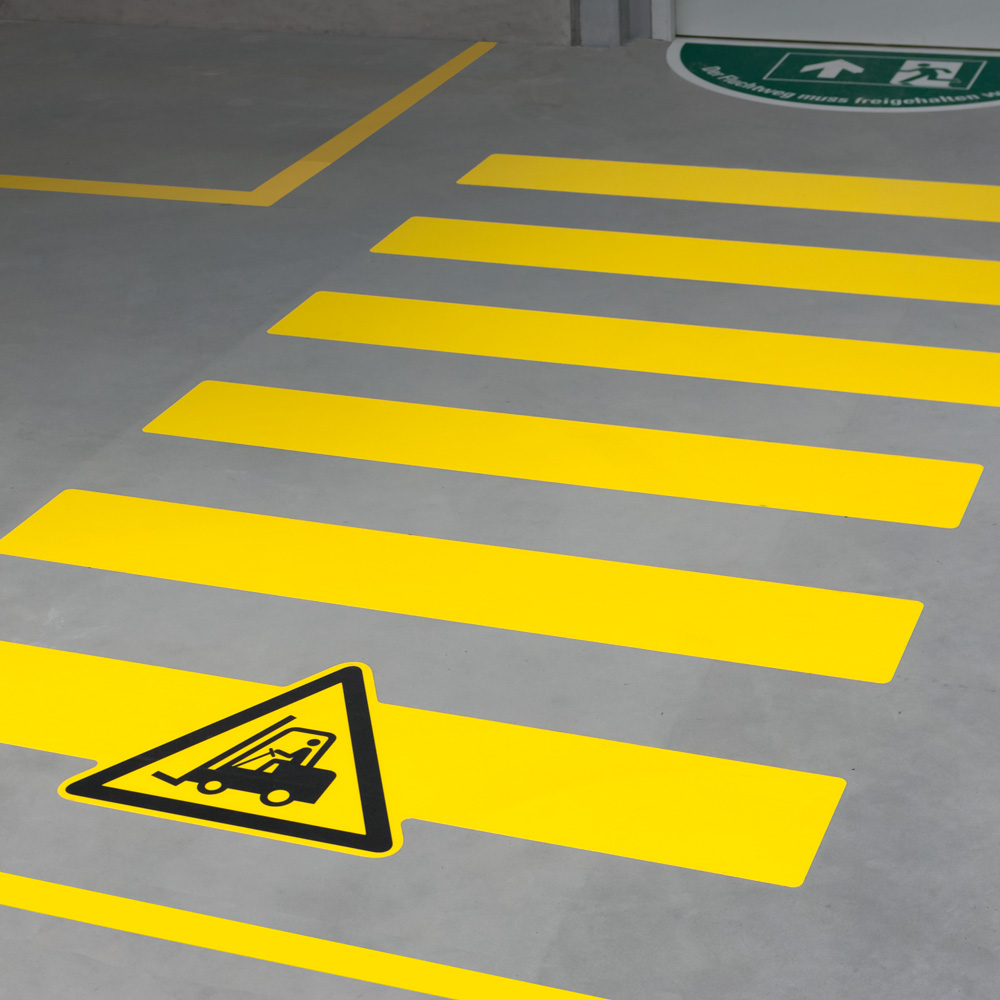Crosswalk: (13, 125, 998, 992)
